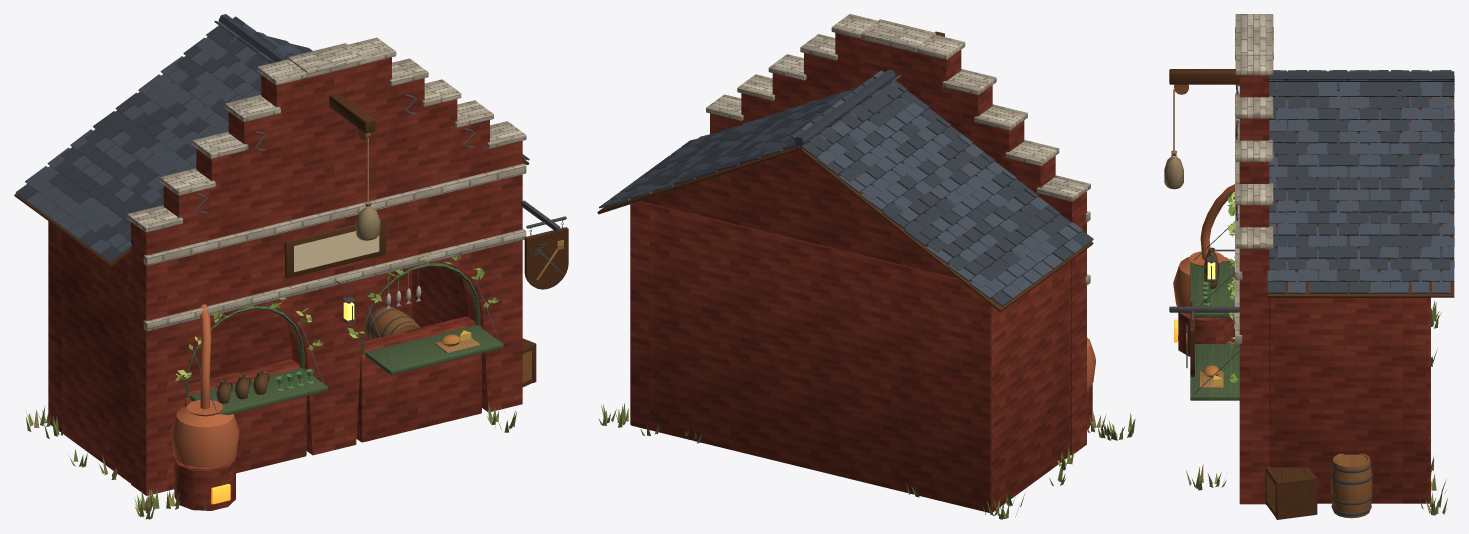
File: tavern-flemish.glb
3 renders of one model, left to right at view 1: azimuth 30°, elevation 25°; view 2: azimuth 150°, elevation 25°; view 3: azimuth 270°, elevation 25°, orthographic. The views are drawn at different scales.
Parts seen in each view (by area): view 1: tavern_flemish, sign_face; view 2: tavern_flemish; view 3: tavern_flemish.
Part boxes in pixels (x1,y1,x2,y2): tavern_flemish: (14, 14, 568, 519); sign_face: (294, 231, 379, 272); tavern_flemish: (597, 14, 1135, 519); tavern_flemish: (1164, 14, 1454, 519).
Size of the model in its own units: 8.5 by 7.15 by 5.02.
Materials: 25 (7 with a texture image).
